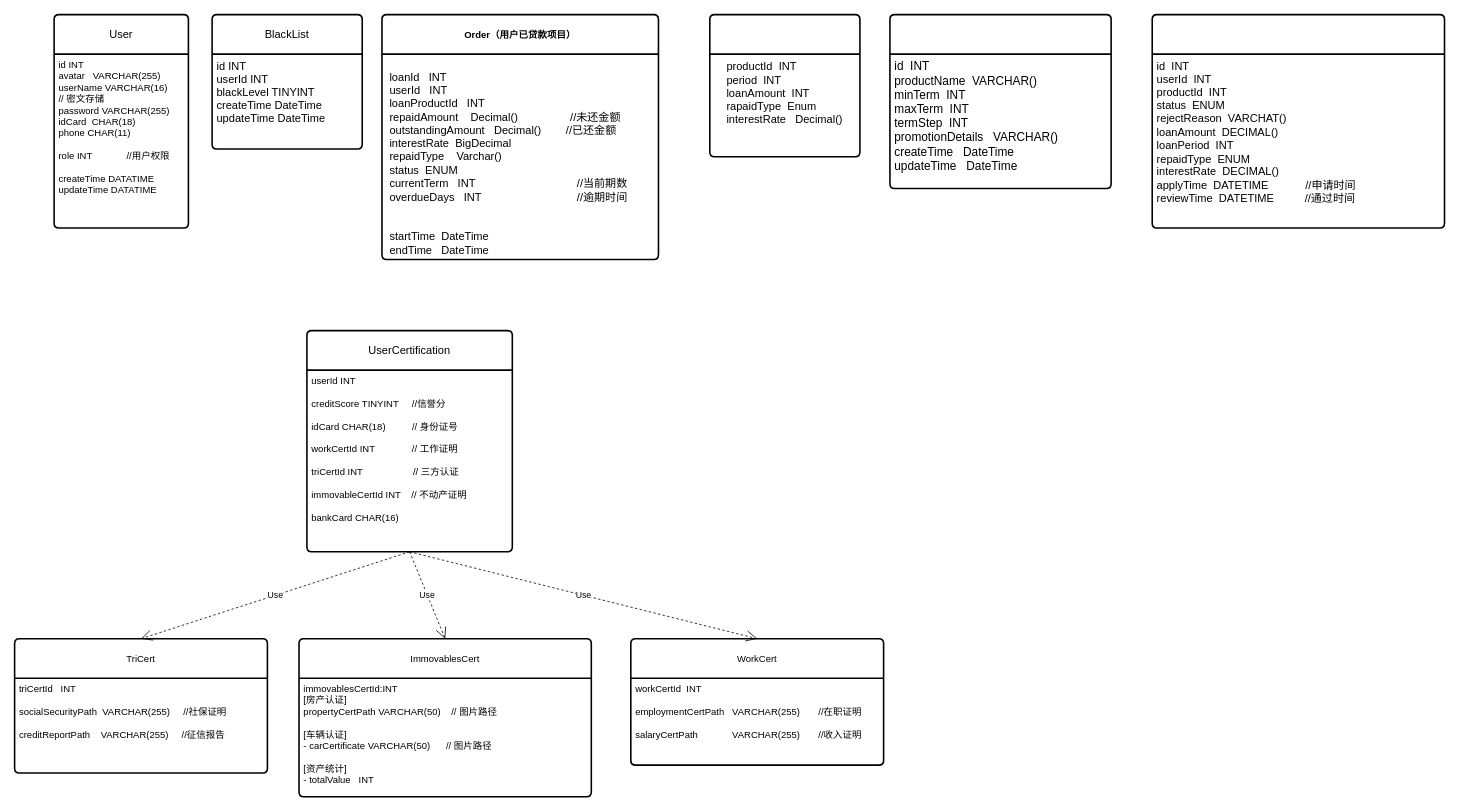
The diagram is 1458 pixels wide and 811 high, and some of its shapes have lost their labels. The shapes that lost their labels are listed below. From the top down, each one's box as (x1, y1, x2, y2) in pixels, then its label:
(709, 13, 860, 157): LoanOption
(889, 13, 1112, 189): LoanProduct
(1151, 13, 1445, 228): LoanApplications
